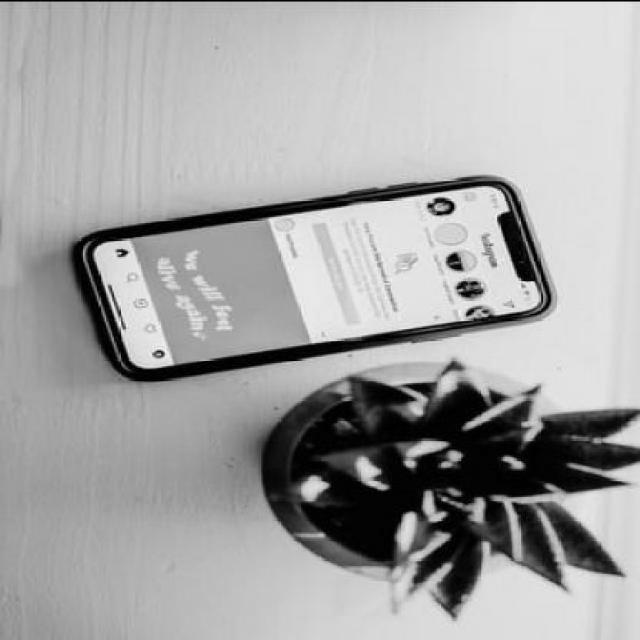fake: (82, 166, 564, 382)
